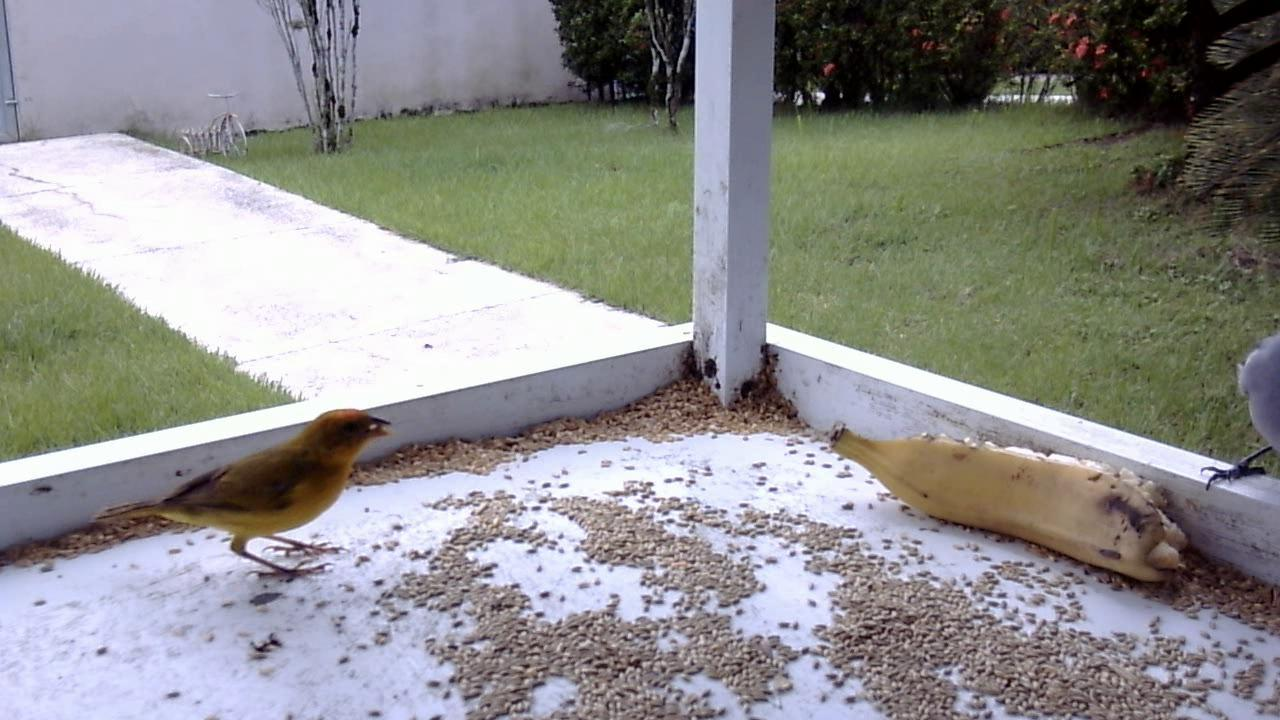canario_do_amazonas: (67, 401, 403, 593)
sanhaco_da_amazonia: (1196, 315, 1280, 496)
